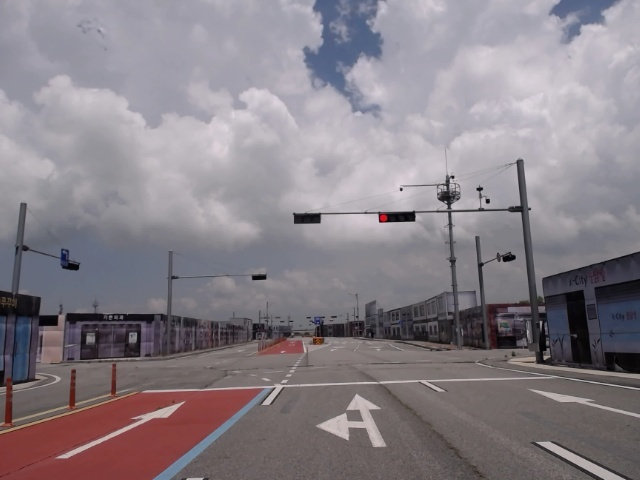red_4: (379, 213, 415, 223)
